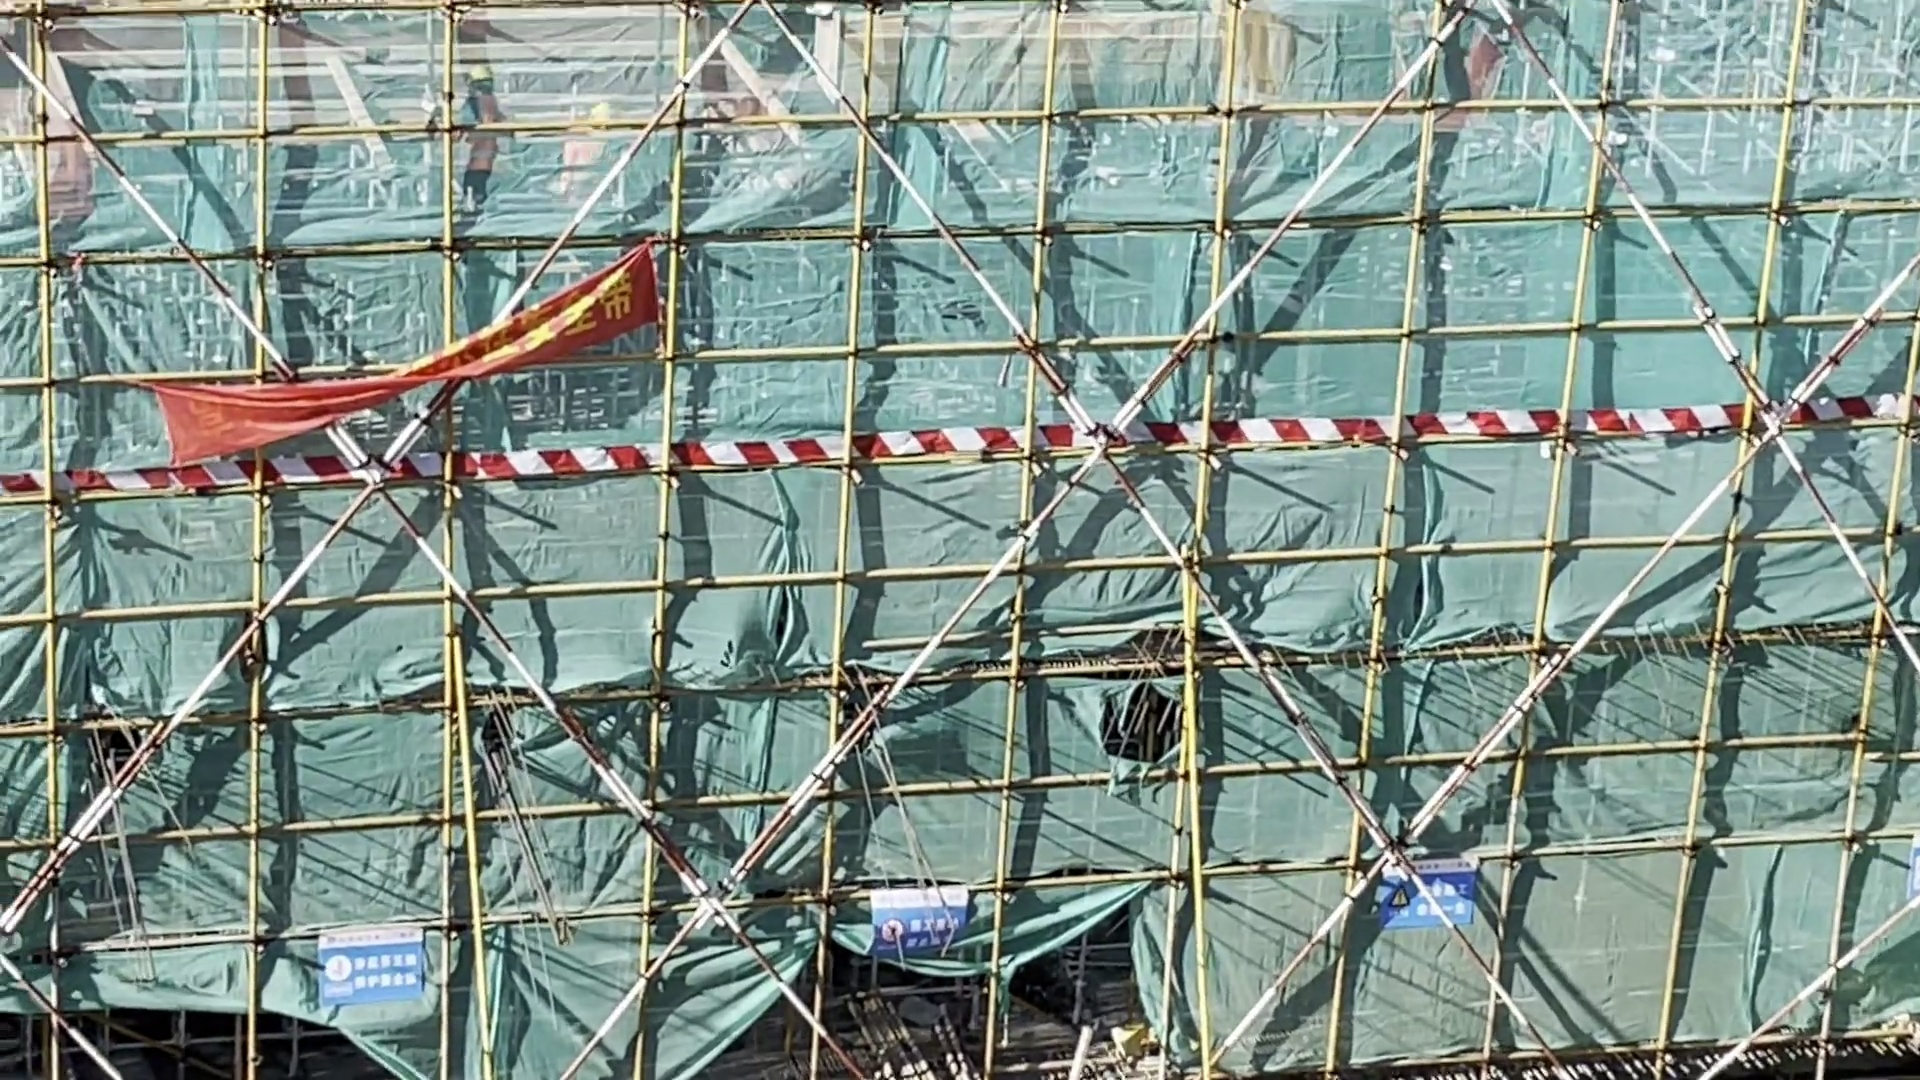slogan: (137, 235, 683, 475), (295, 902, 443, 1014), (862, 857, 975, 982), (1375, 839, 1485, 957)
